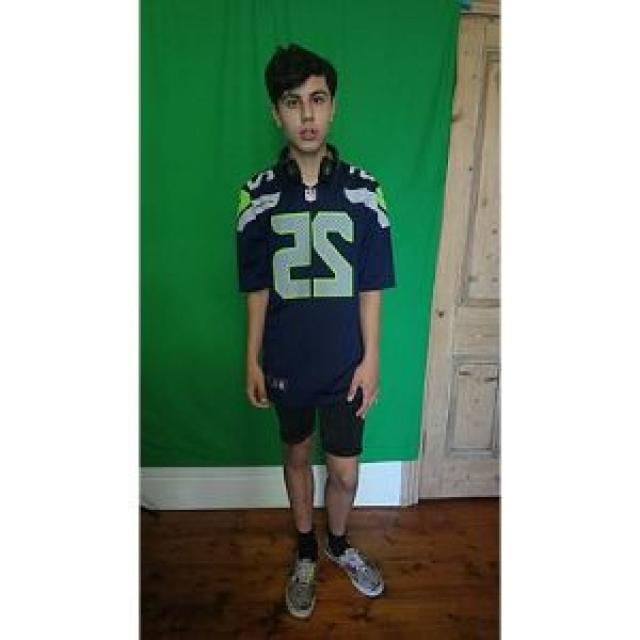adult: (205, 38, 407, 640)
